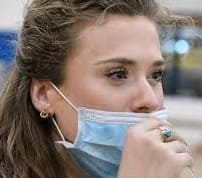with_incorrect_mask: (59, 11, 167, 170)
